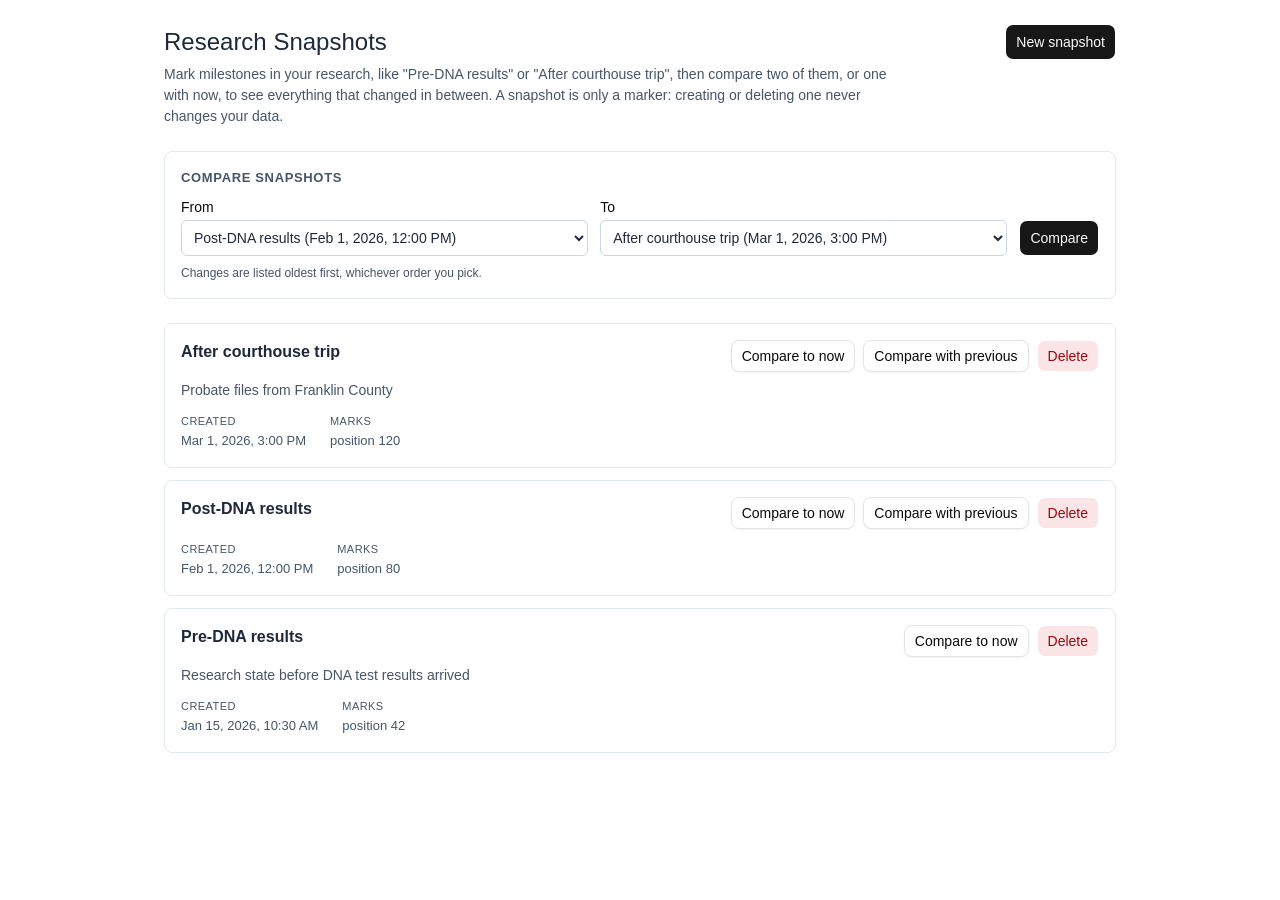
Test: Snapshots page › delete › does nothing when the confirmation is cancelled
Expected: the heading "Pre-DNA results" is shown, [181,624,303,648]
Click the button with aria-label "Delete snapshot Pre-DNA results": (1068, 640) [1036,624,1099,656]
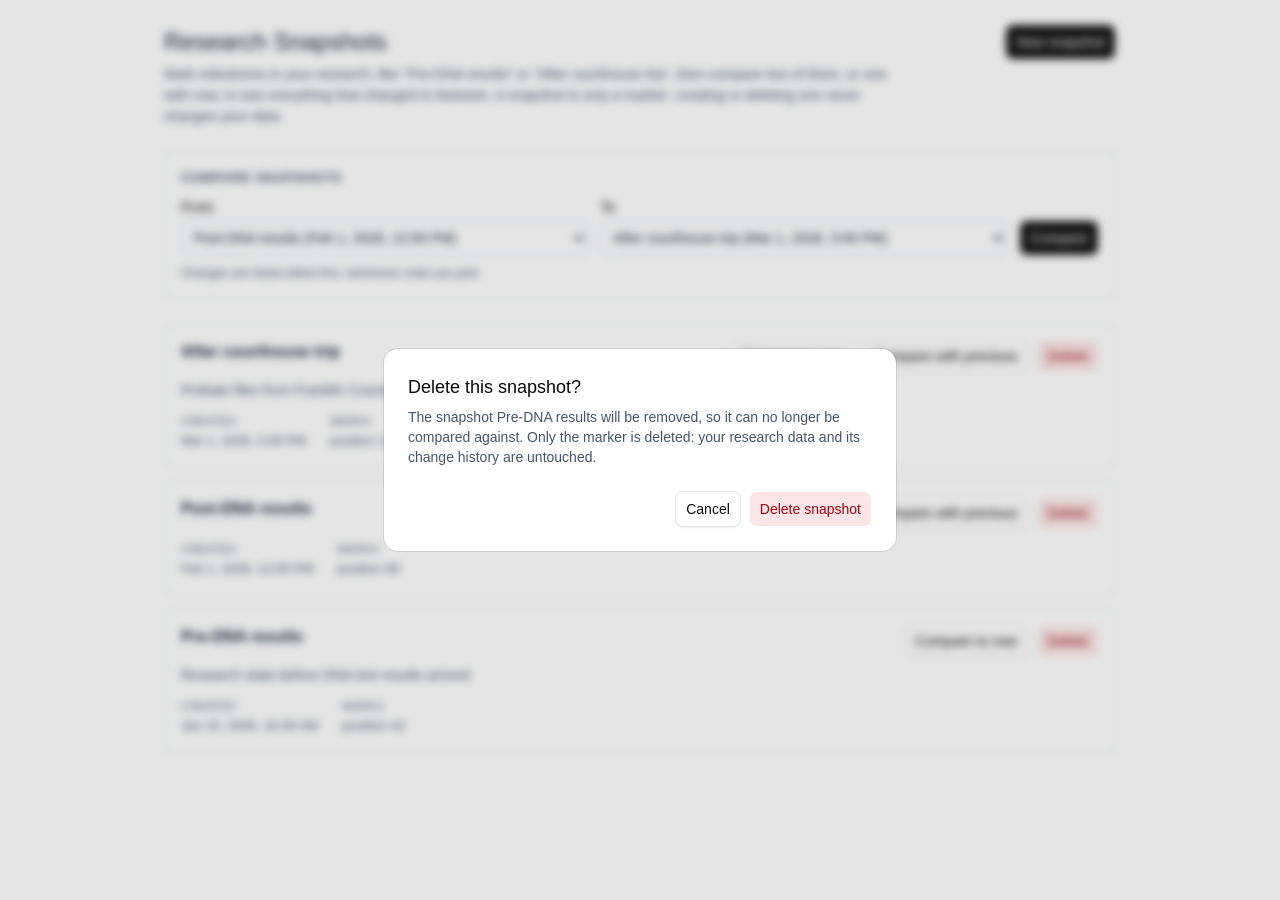
Click the button "Cancel": (708, 509) [675,491,741,527]
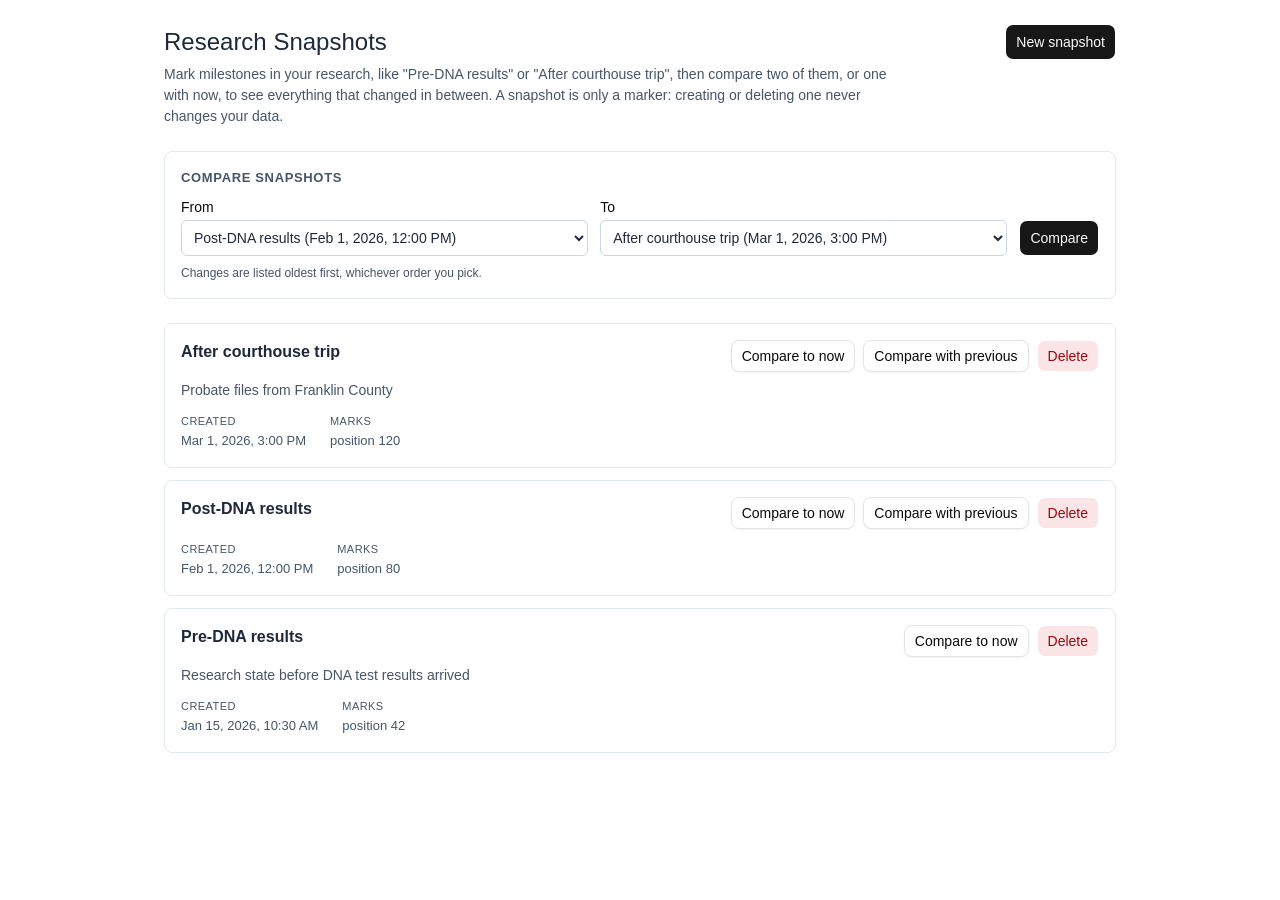
Now the heading "Delete this snapshot?" is gone
